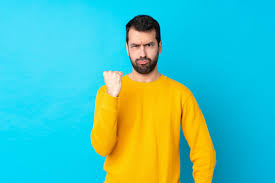white_male: (119, 27, 168, 72)
